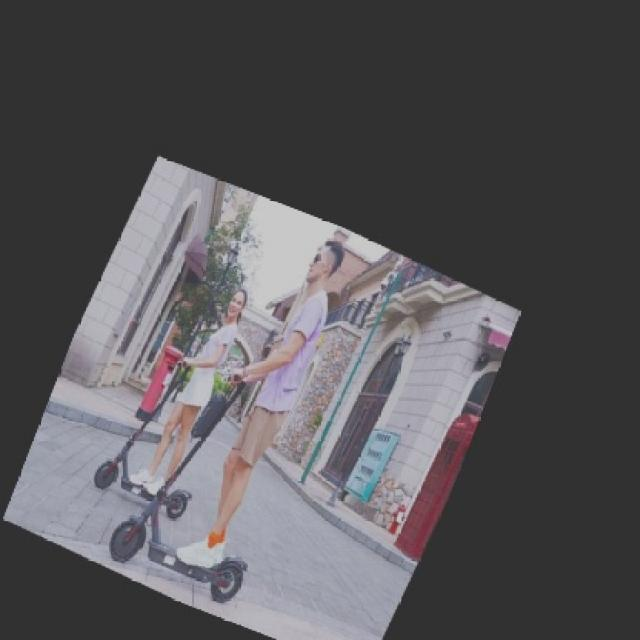bare_head: (301, 232, 373, 287)
human: (230, 223, 344, 574)
kickboard: (111, 509, 278, 640)
